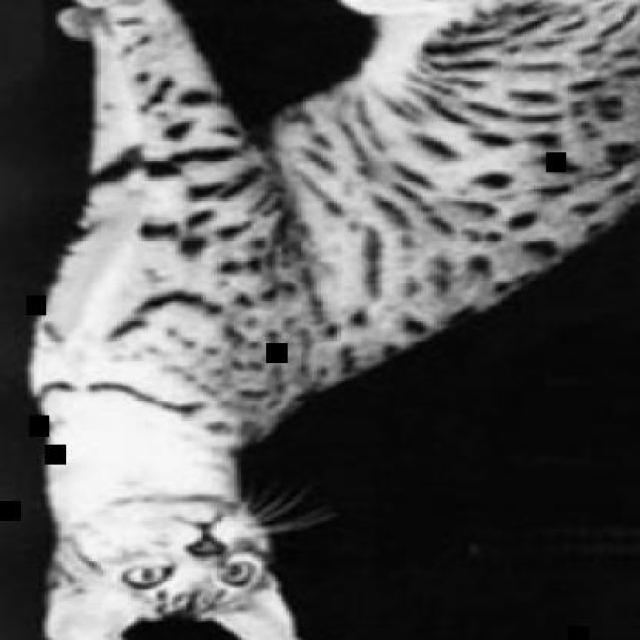cat: (21, 1, 638, 638)
